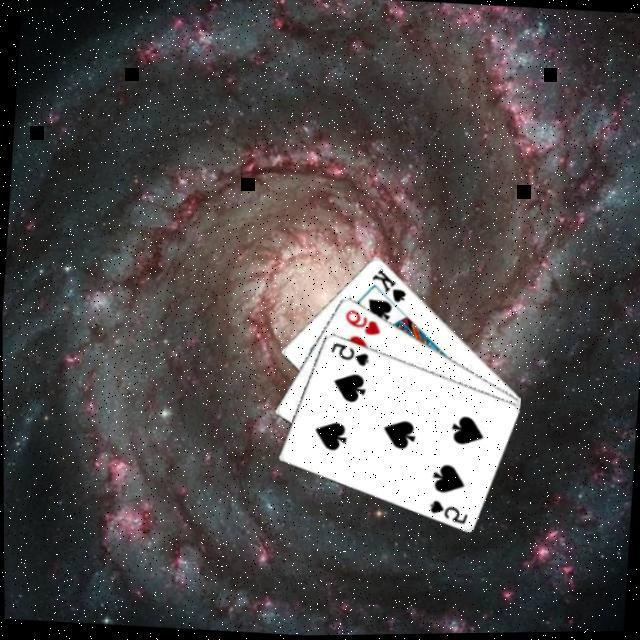5S: (327, 339, 373, 371), (426, 498, 472, 529)
9H: (341, 307, 385, 341)
KS: (368, 266, 411, 308)
